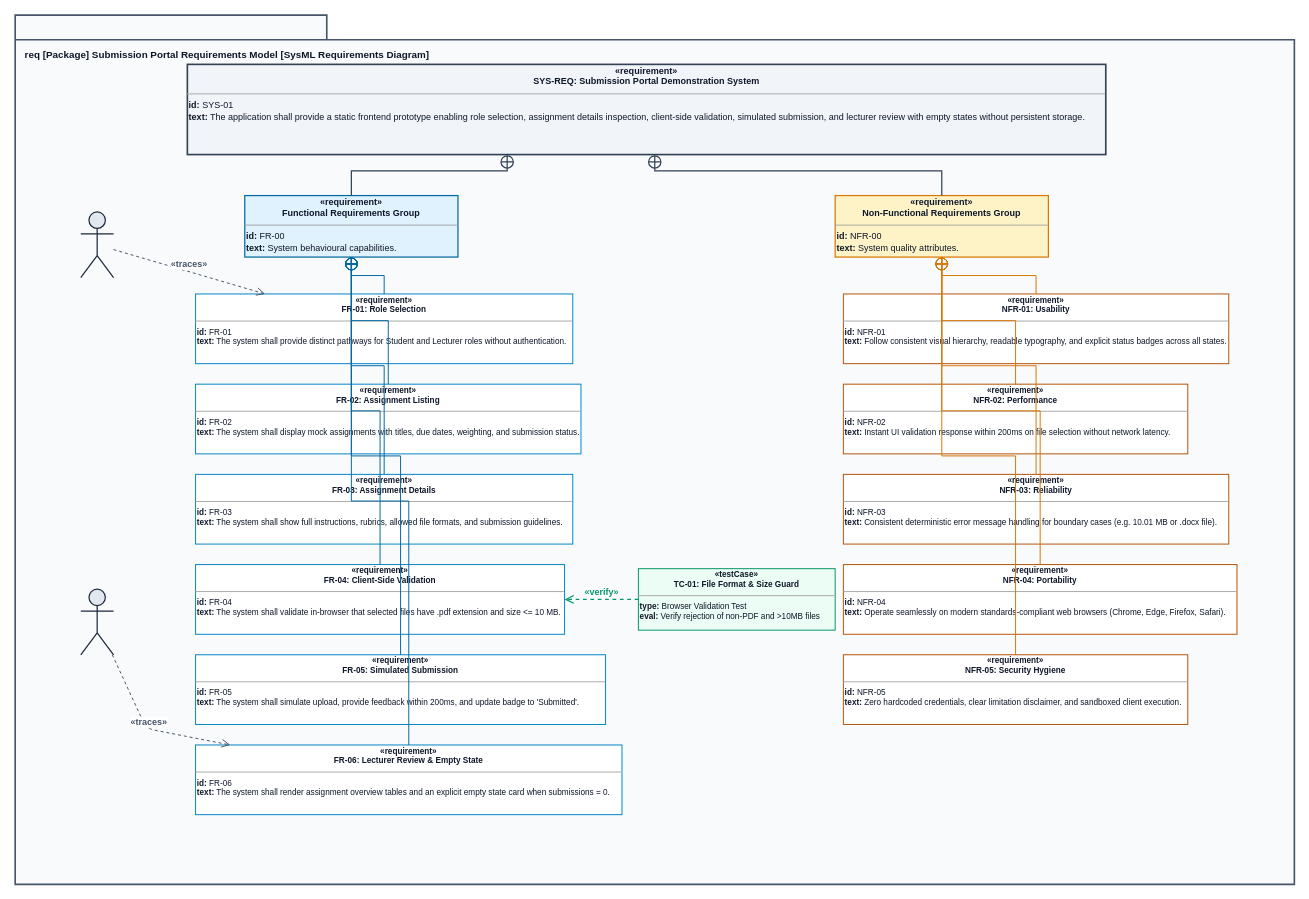
Some shapes in this 1309 by 899 pixel diagram are drawn without their labels. Here are the shapes that lost their labels. From the top down, the box of each, then its label:
(80, 211, 114, 278): «Actor» Student
(80, 588, 114, 655): «Actor» Lecturer
